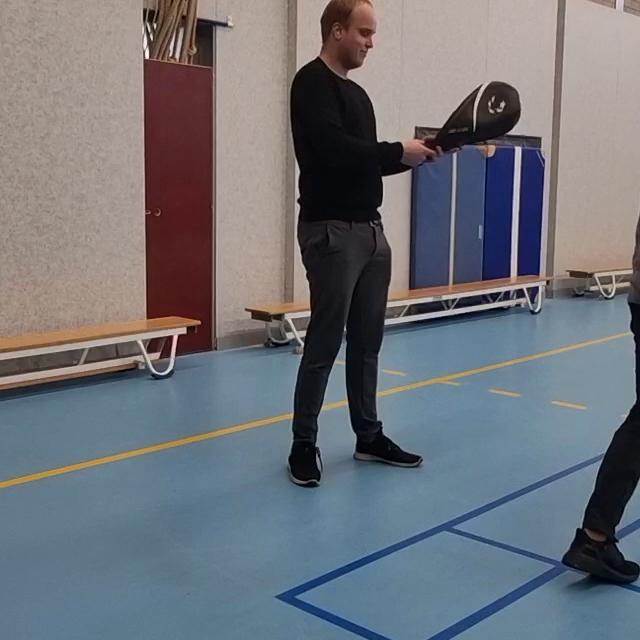paddle: (427, 78, 529, 155)
